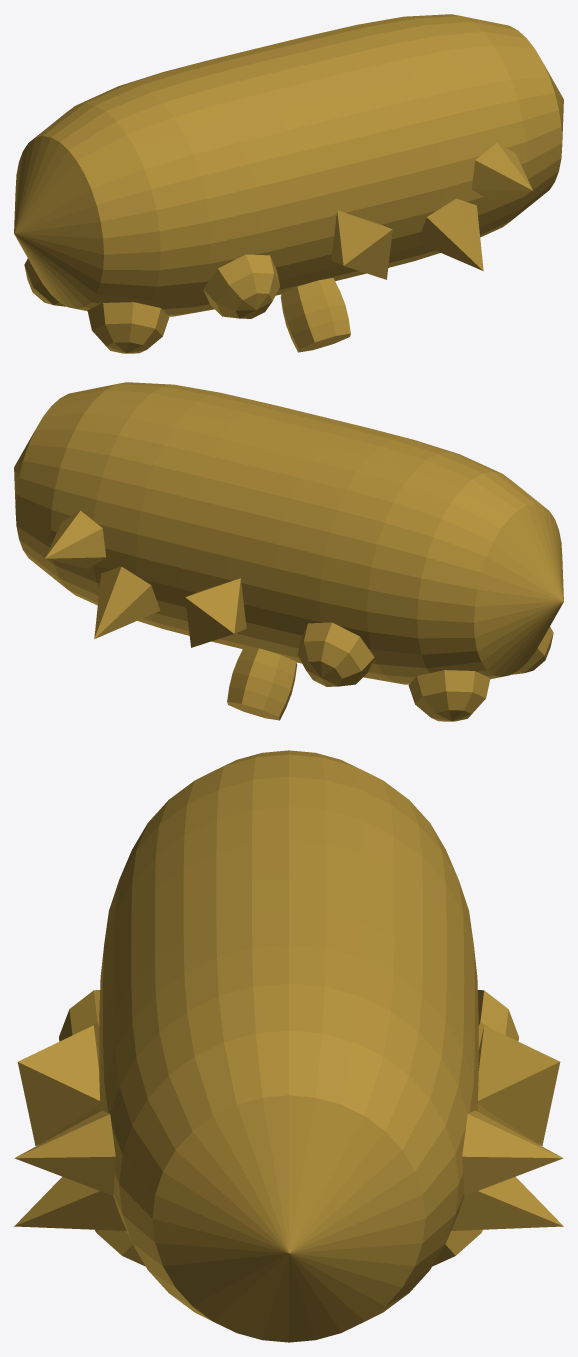
The model's file is exp1_barrel_sym_04.glb.
The picture shows the model from 3 angles, top to bottom: view 1: azimuth 30°, elevation 25°; view 2: azimuth 150°, elevation 25°; view 3: azimuth 270°, elevation 25°; orthographic projection. The views are drawn at different scales.
Parts seen in each view (by area): view 1: exp1_barrel_sym_04; view 2: exp1_barrel_sym_04; view 3: exp1_barrel_sym_04.
Boxes of the visible parts, <box> form: exp1_barrel_sym_04: <box>14,14,563,353</box>; exp1_barrel_sym_04: <box>14,382,563,721</box>; exp1_barrel_sym_04: <box>14,750,563,1342</box>.
Size of the model in its own units: 3.36 by 1.52 by 1.89.
